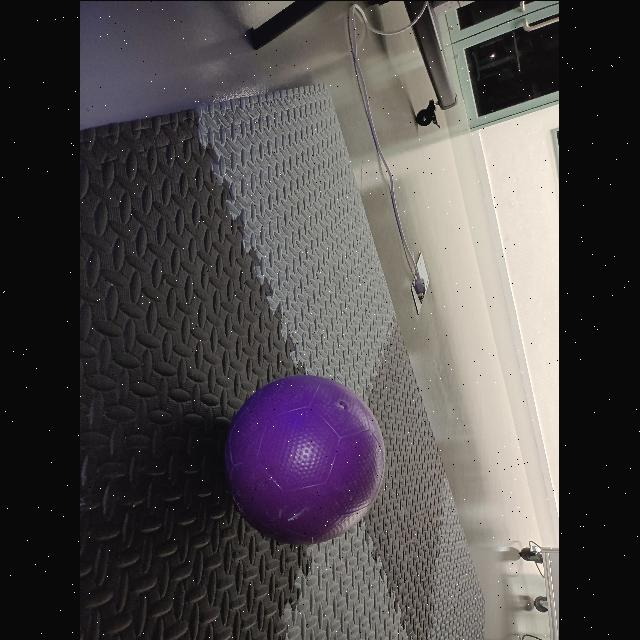P: (224, 373, 386, 544)
